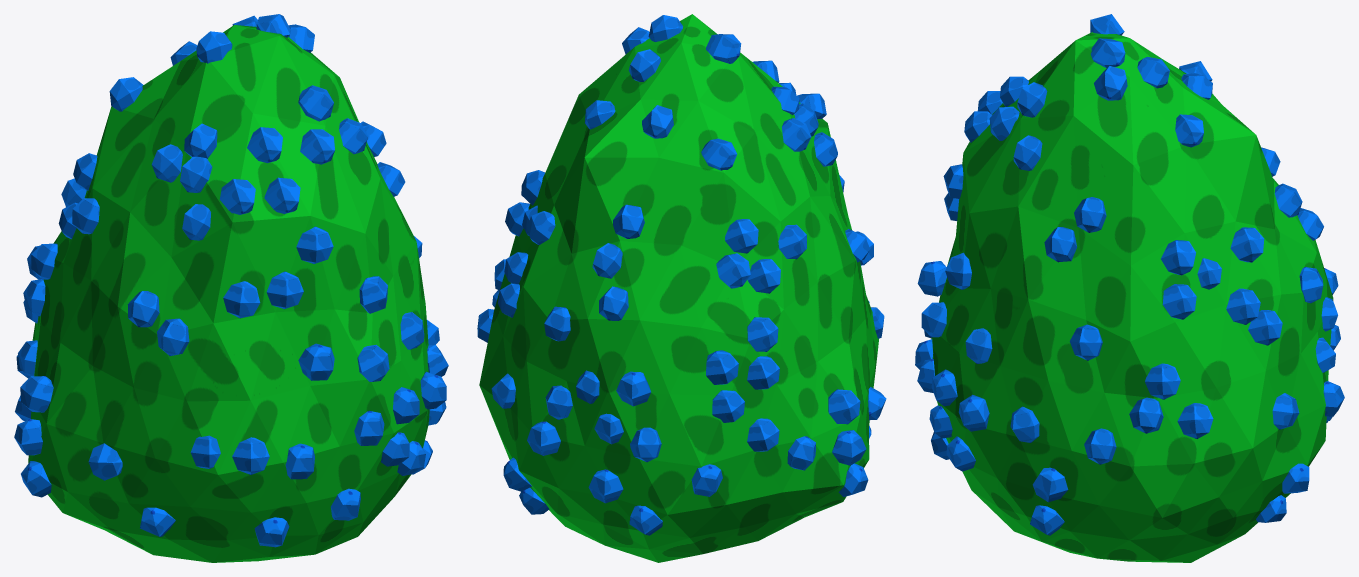
Rendered from bush.fbx.
The picture shows the model from 3 angles, left to right: view 1: azimuth 30°, elevation 25°; view 2: azimuth 150°, elevation 25°; view 3: azimuth 270°, elevation 25°; orthographic projection. The views are drawn at different scales.
Visible parts, largest first — view 1: Bush, Berries; view 2: Bush, Berries; view 3: Bush, Berries.
Boxes of the visible parts, left/top/right/bottom form: Bush: left=28, top=25, right=429, bottom=562; Berries: left=14, top=14, right=448, bottom=547; Bush: left=479, top=14, right=878, bottom=562; Berries: left=477, top=15, right=886, bottom=535; Bush: left=931, top=32, right=1333, bottom=562; Berries: left=915, top=14, right=1344, bottom=535.
Bounding box in the file's own units: 120 × 153 × 118.
Materials: 2 (2 with a texture image).
